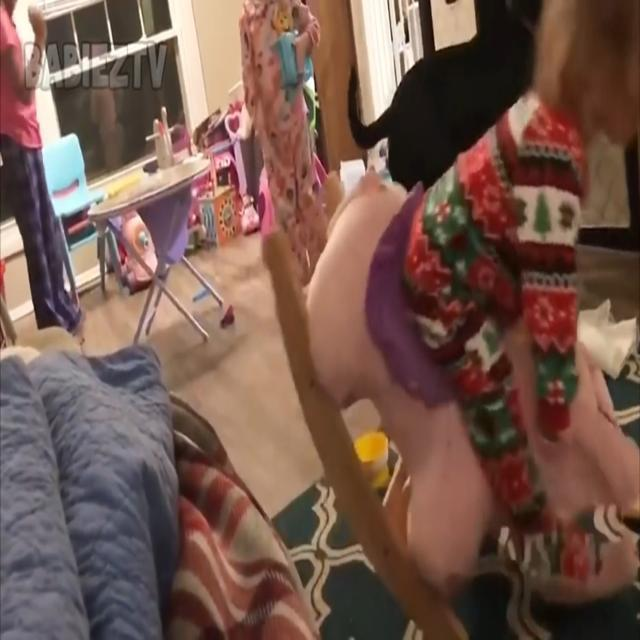child: (405, 0, 640, 587)
